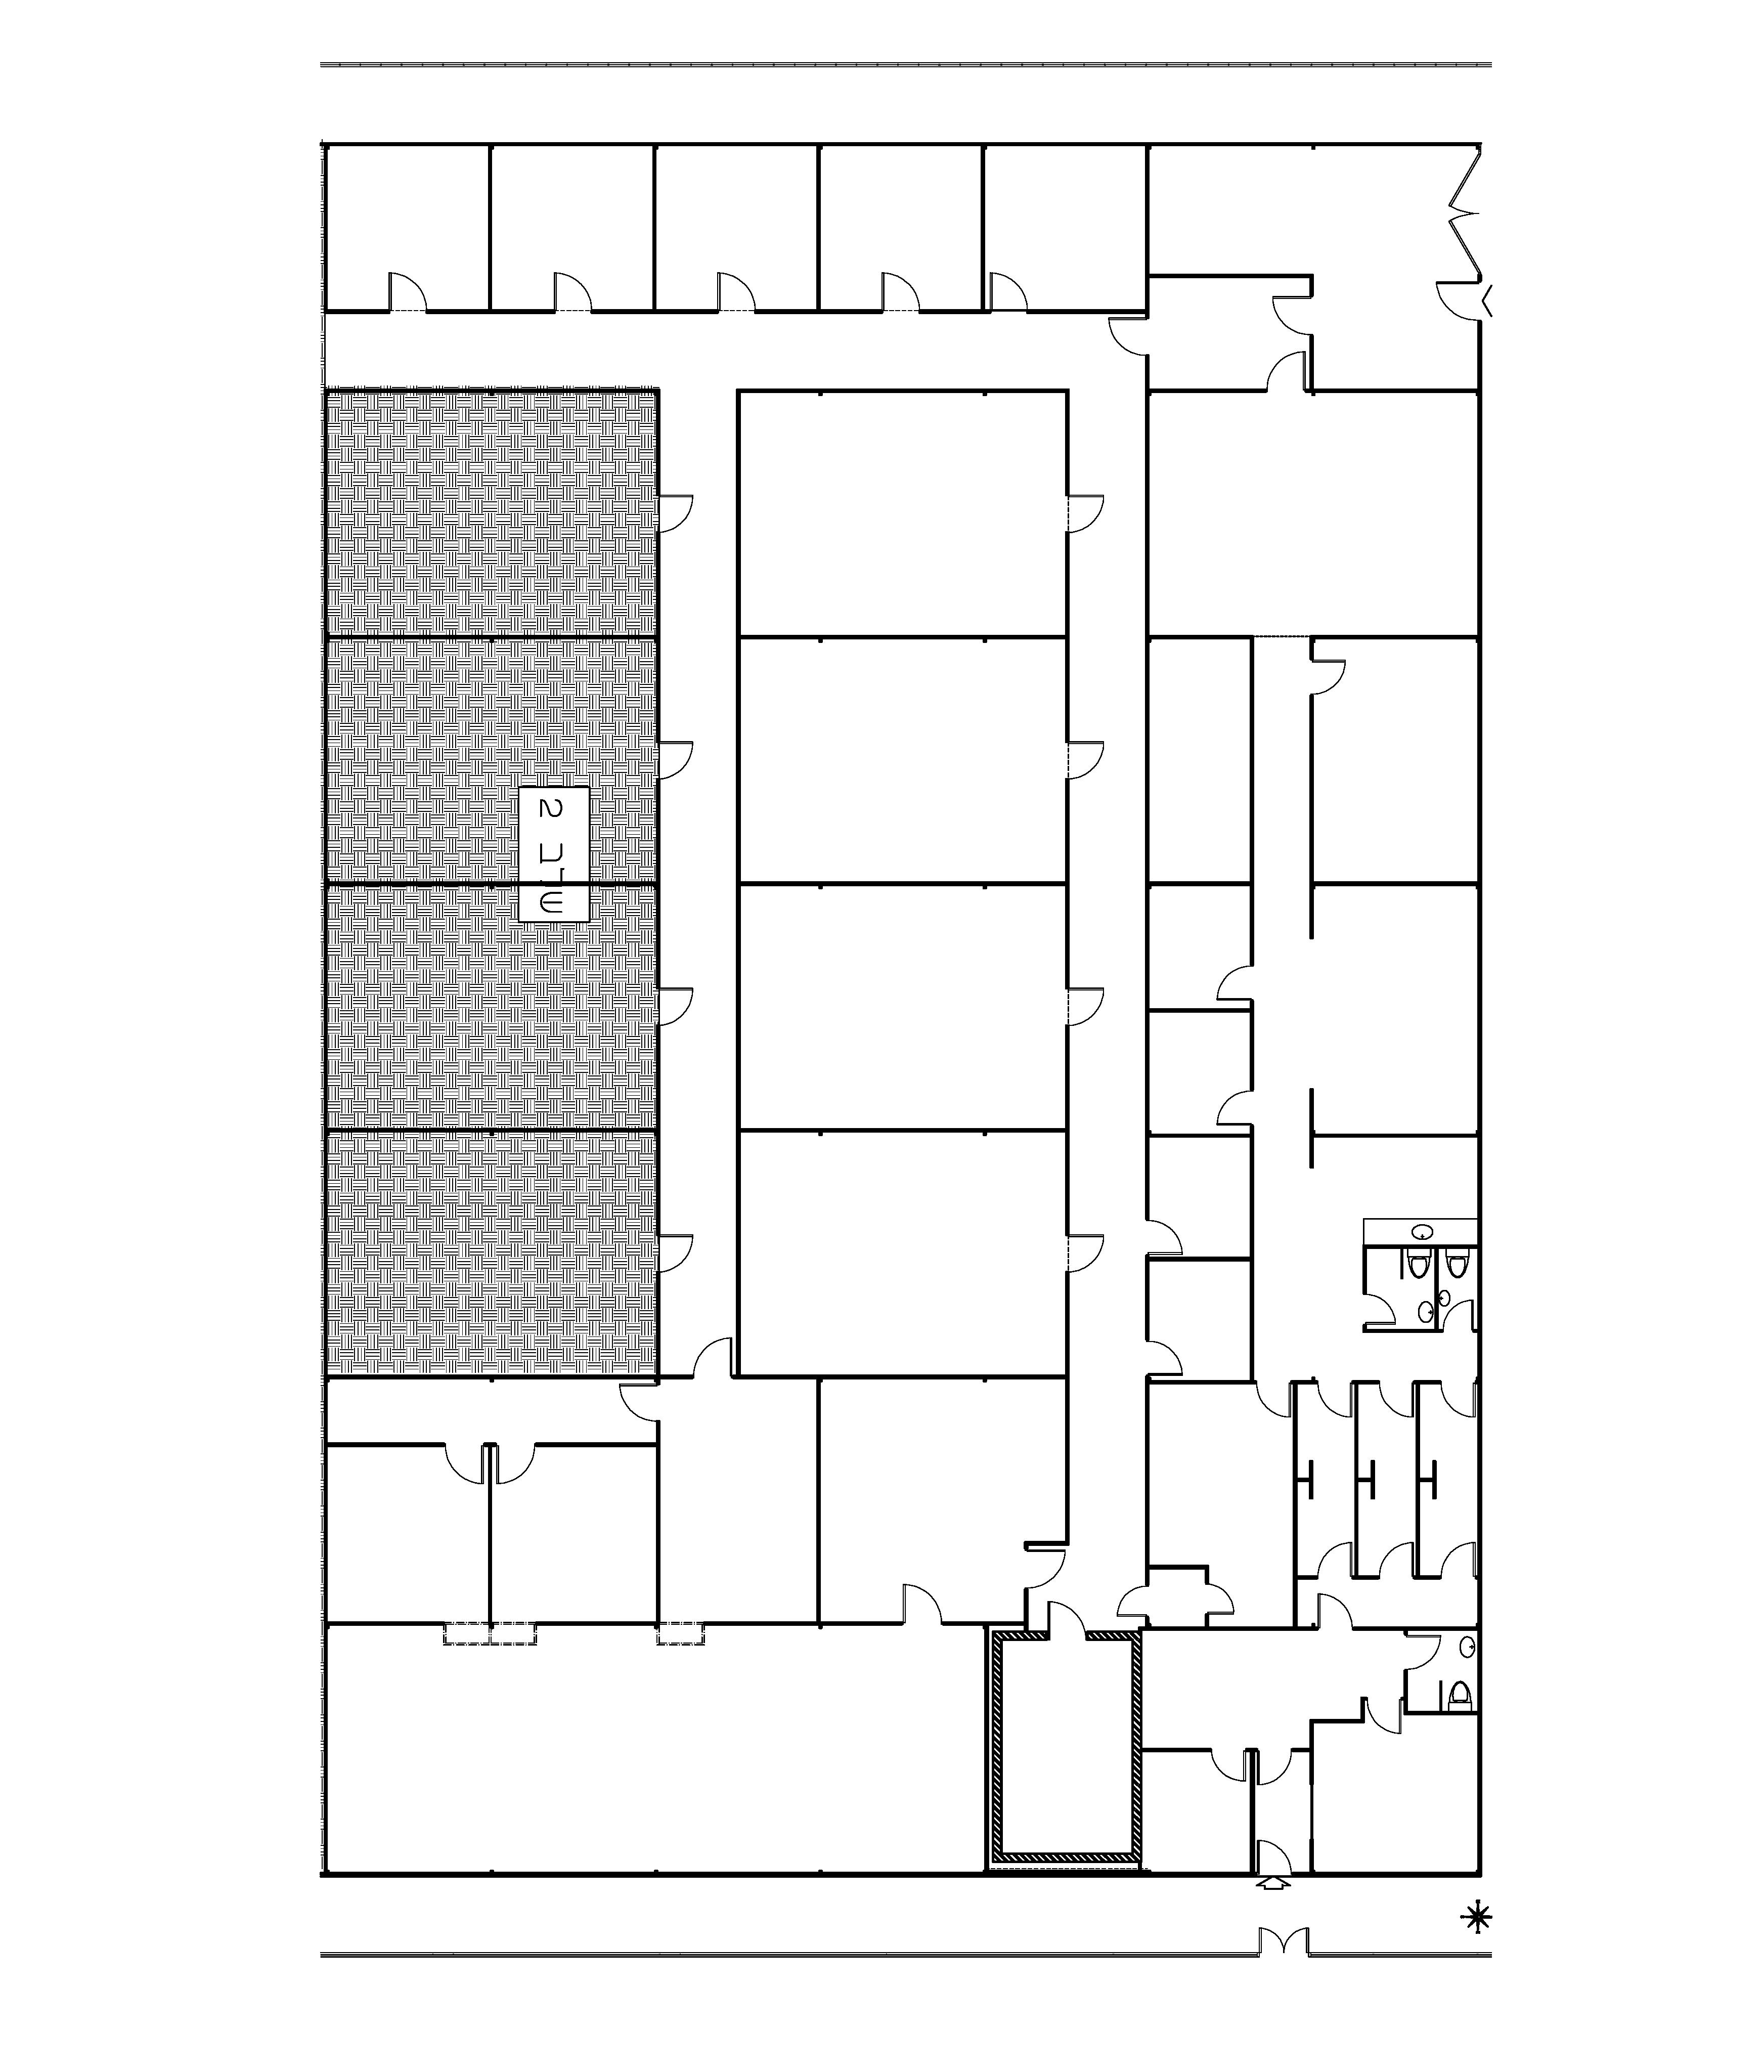door: (1197, 959, 1244, 1008), (1075, 737, 1122, 786), (1095, 310, 1143, 359), (1320, 654, 1367, 702), (1260, 341, 1307, 388), (1075, 982, 1120, 1031), (984, 257, 1029, 306), (1076, 488, 1122, 535), (1263, 290, 1309, 338), (1430, 273, 1475, 320), (387, 261, 432, 303), (550, 259, 595, 301), (877, 259, 922, 301), (665, 490, 711, 532), (663, 737, 709, 779), (663, 1227, 709, 1269), (688, 1326, 733, 1368), (605, 1377, 651, 1419), (497, 1453, 543, 1494), (443, 1447, 488, 1489), (900, 1573, 945, 1615), (1069, 1235, 1115, 1277), (1148, 1211, 1194, 1253), (1206, 1755, 1251, 1797), (1204, 1754, 1250, 1795), (1255, 1757, 1300, 1799), (1258, 1825, 1304, 1867), (1311, 1584, 1356, 1626), (1309, 1528, 1354, 1570), (1370, 1531, 1416, 1573), (711, 264, 754, 306), (665, 983, 709, 1025), (1027, 1547, 1071, 1589), (1041, 1591, 1085, 1633), (1101, 1582, 1145, 1624), (1155, 1337, 1199, 1379), (1251, 1384, 1295, 1426), (1209, 1580, 1253, 1622), (1411, 1633, 1454, 1675), (1433, 1533, 1477, 1575), (1314, 1388, 1358, 1430), (1372, 1388, 1416, 1430), (1432, 1386, 1475, 1428), (1370, 1288, 1414, 1330), (1202, 1083, 1246, 1125)
